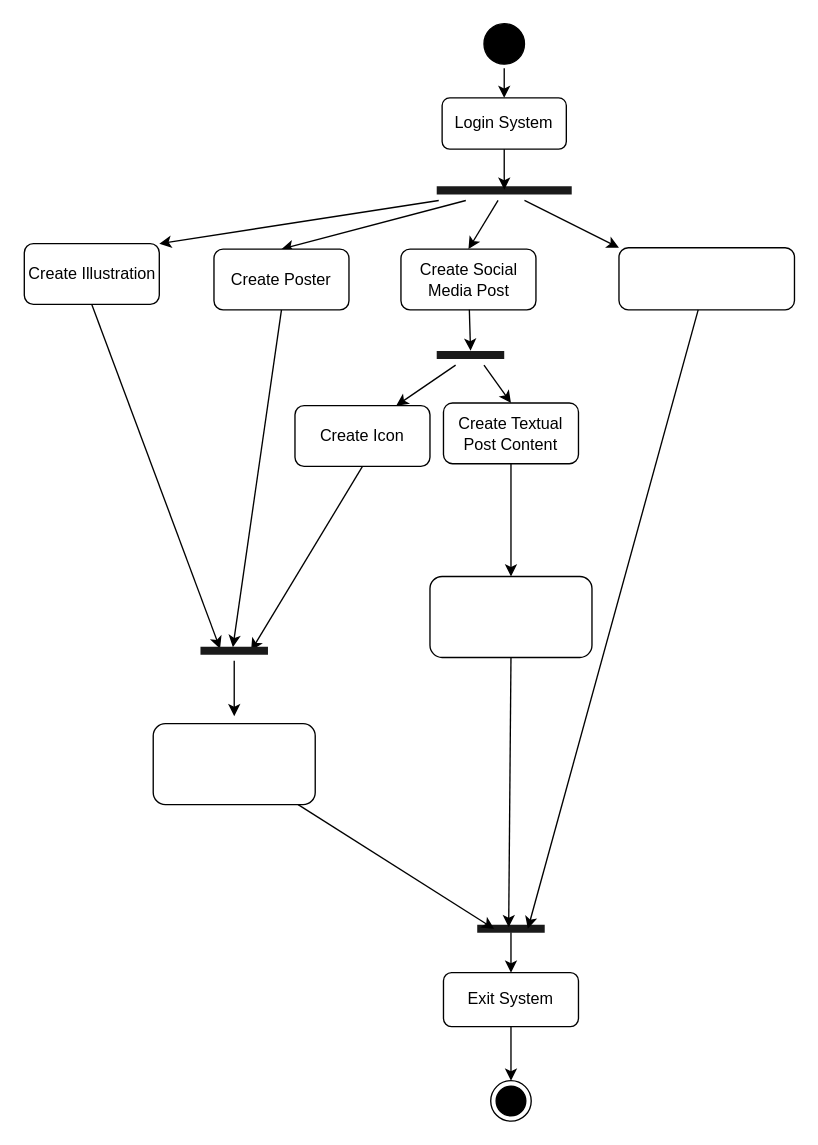
Image size: 818x1145. Some labels were removed from this diagram. Each missing label, with the box of its shape:
Image Generation: (152, 722, 315, 805)
Manage Personal Info: (618, 246, 794, 310)
Text Generation: (429, 575, 592, 657)
